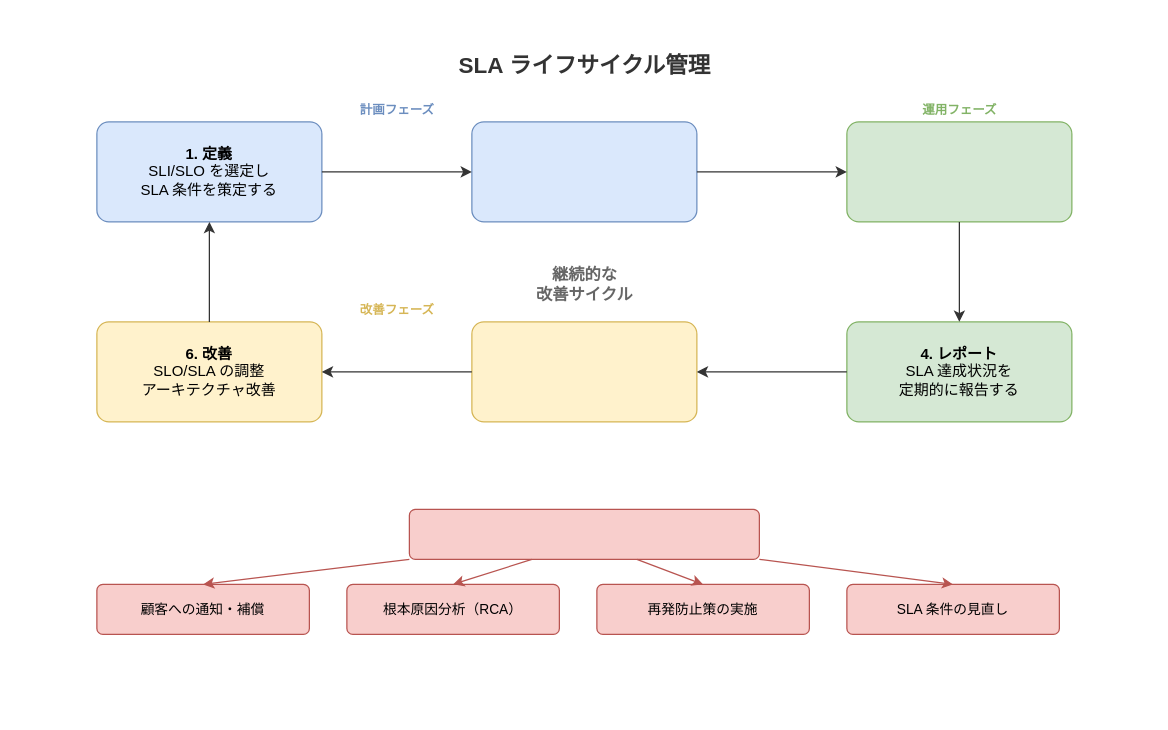
Some shapes in this 1168 by 730 pixel diagram are drawn without their labels. The centre of each missing label's shape, as x and y in pixels:
"2. 合意 顧客と交渉し 契約を締結する" belongs at [584,171].
"3. 監視 SLI を継続的に 計測・記録する" belongs at [959,171].
"5. レビュー SLA の妥当性を 評価・分析する" belongs at [584,371].
"SLA 違反発生時" belongs at [583,533].
